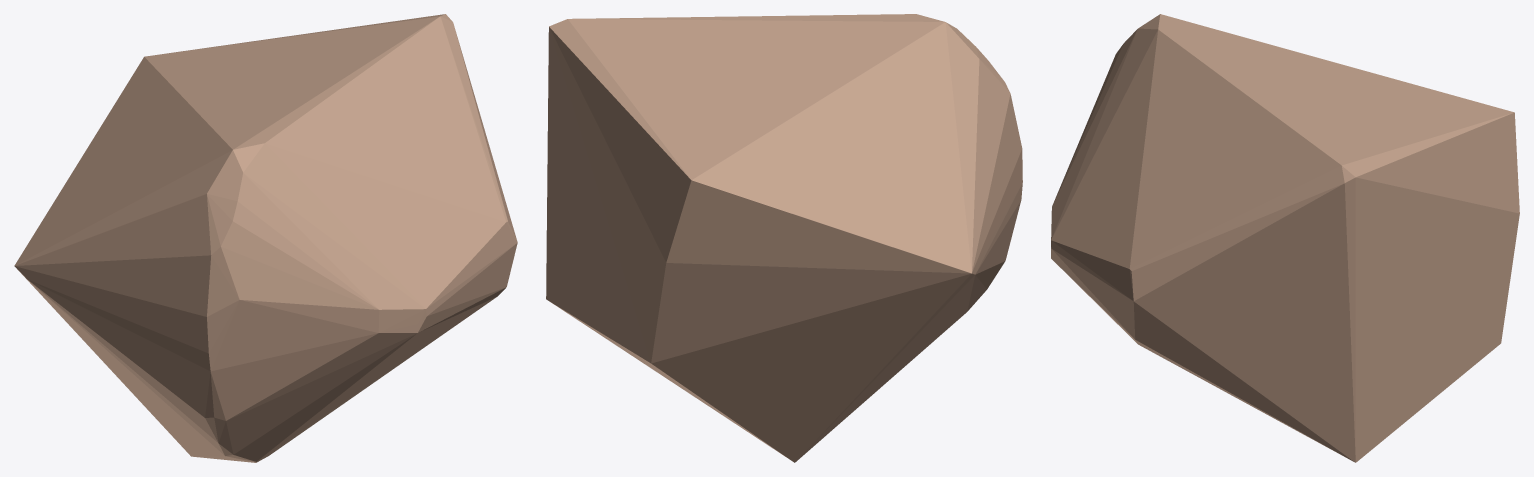
The model's file is chair_surgical_b01.glb.
The picture shows the model from 3 angles, left to right: view 1: azimuth 30°, elevation 25°; view 2: azimuth 150°, elevation 25°; view 3: azimuth 270°, elevation 25°; orthographic projection. The views are drawn at different scales.
Parts seen in each view (by area): view 1: geometry_0; view 2: geometry_0; view 3: geometry_0.
Part boxes in pixels (<box>): geometry_0: <box>14,14,517,462</box>; geometry_0: <box>546,14,1022,462</box>; geometry_0: <box>1051,14,1519,462</box>.
Bounding box in the file's own units: 0.3821 × 0.3295 × 0.3506.
